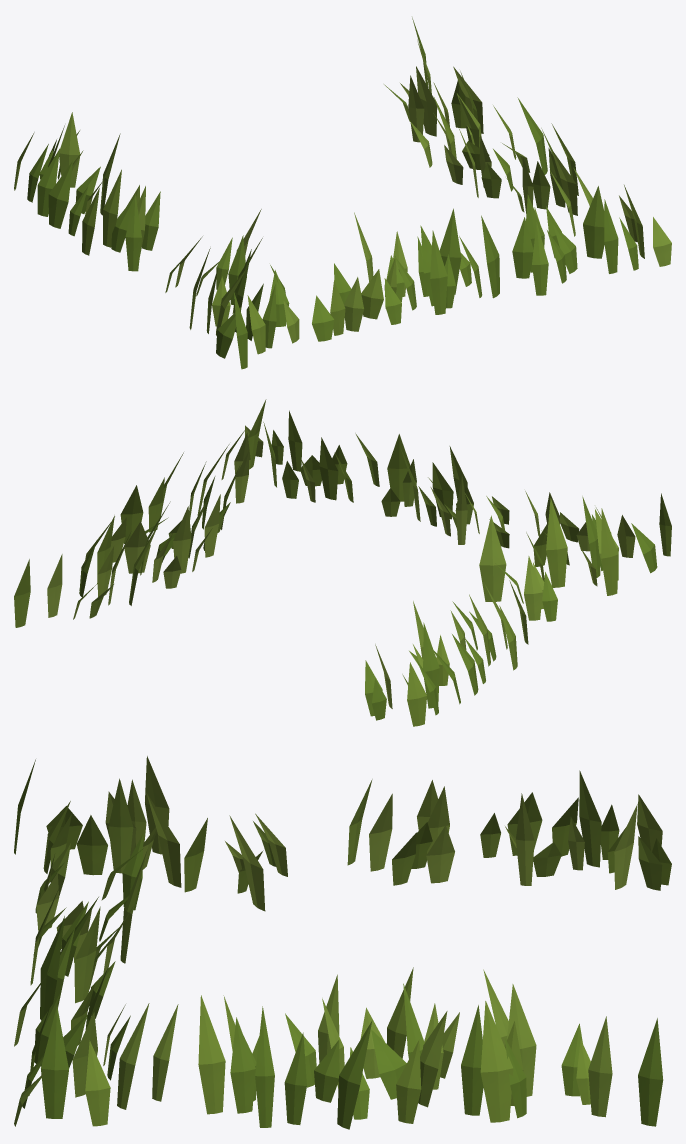
The model's file is tile_grass_end_04.glb.
3 views of the same model, one above another, from view 1: azimuth 30°, elevation 25°; view 2: azimuth 150°, elevation 25°; view 3: azimuth 270°, elevation 25° (orthographic). The views are drawn at different scales.
Visible parts, largest first — view 1: tile_grass_end_04; view 2: tile_grass_end_04; view 3: tile_grass_end_04.
Part boxes in pixels (x1,y1,x2,y2): tile_grass_end_04: [14, 17, 671, 369]; tile_grass_end_04: [14, 399, 671, 726]; tile_grass_end_04: [14, 756, 671, 1129].
Bounding box in the file's own units: 1 × 0.18 × 0.9894.
Materials: 1 (1 with a texture image).
